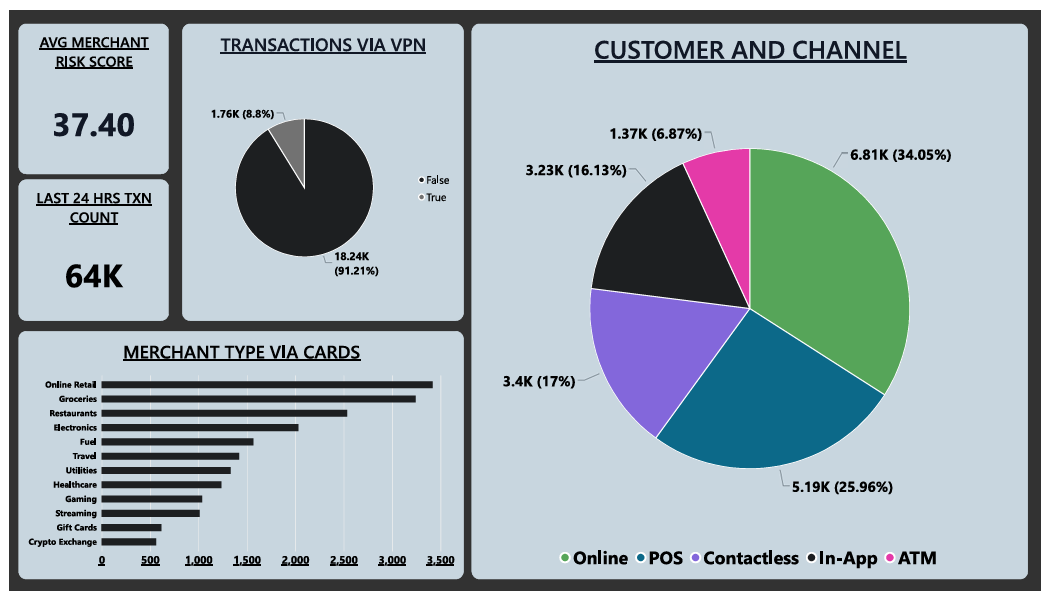

The dashboard page shown, as its layout file describes it:
{"tool":"powerbi","page":{"name":"Page 2","canvas":[1920,1080],"ordinal":1},"visuals":[{"type":"card","title":" AVG MERCHANT RISK SCORE ","fields":{"Values":["Avg(credit card fraud.merchant_risk_score)"]},"box":[16.5,24.7,280,280],"z":0},{"type":"clusteredBarChart","title":"MERCHANT TYPE VIA CARDS","fields":{"Category":["credit card fraud.merchant_category"],"Y":["CountNonNull(credit card fraud.card_type)"]},"box":[16.5,596.6,829,462.8],"z":1000},{"type":"card","title":"LAST 24 HRS TXN COUNT","fields":{"Values":["Sum(credit card fraud.txn_count_last_24h)"]},"box":[16.5,314.7,280,263],"z":2000},{"type":"pieChart","title":"TRANSACTIONS VIA VPN","fields":{"Series":["credit card fraud.used_vpn"],"Y":["CountNonNull(credit card fraud.is_foreign_transaction)"]},"box":[320.9,24.7,524.6,553.4],"z":2001},{"type":"pieChart","title":"CUSTOMER AND CHANNEL","fields":{"Category":["credit card fraud.channel"],"Y":["CountNonNull(credit card fraud.customer_age)"]},"box":[859.5,24.6,1036.8,1034.7],"z":2002}]}

Visuals, with their boxes in screenshot pixels (x1, y1, x2, y2), scaled from the page's 1920x1080 canvas onto the 1049x599 screenshot:
" AVG MERCHANT RISK SCORE " card: bbox=[9, 14, 162, 169]
"MERCHANT TYPE VIA CARDS" clusteredBarChart: bbox=[9, 331, 462, 588]
"LAST 24 HRS TXN COUNT" card: bbox=[9, 175, 162, 320]
"TRANSACTIONS VIA VPN" pieChart: bbox=[175, 14, 462, 321]
"CUSTOMER AND CHANNEL" pieChart: bbox=[470, 14, 1036, 588]
